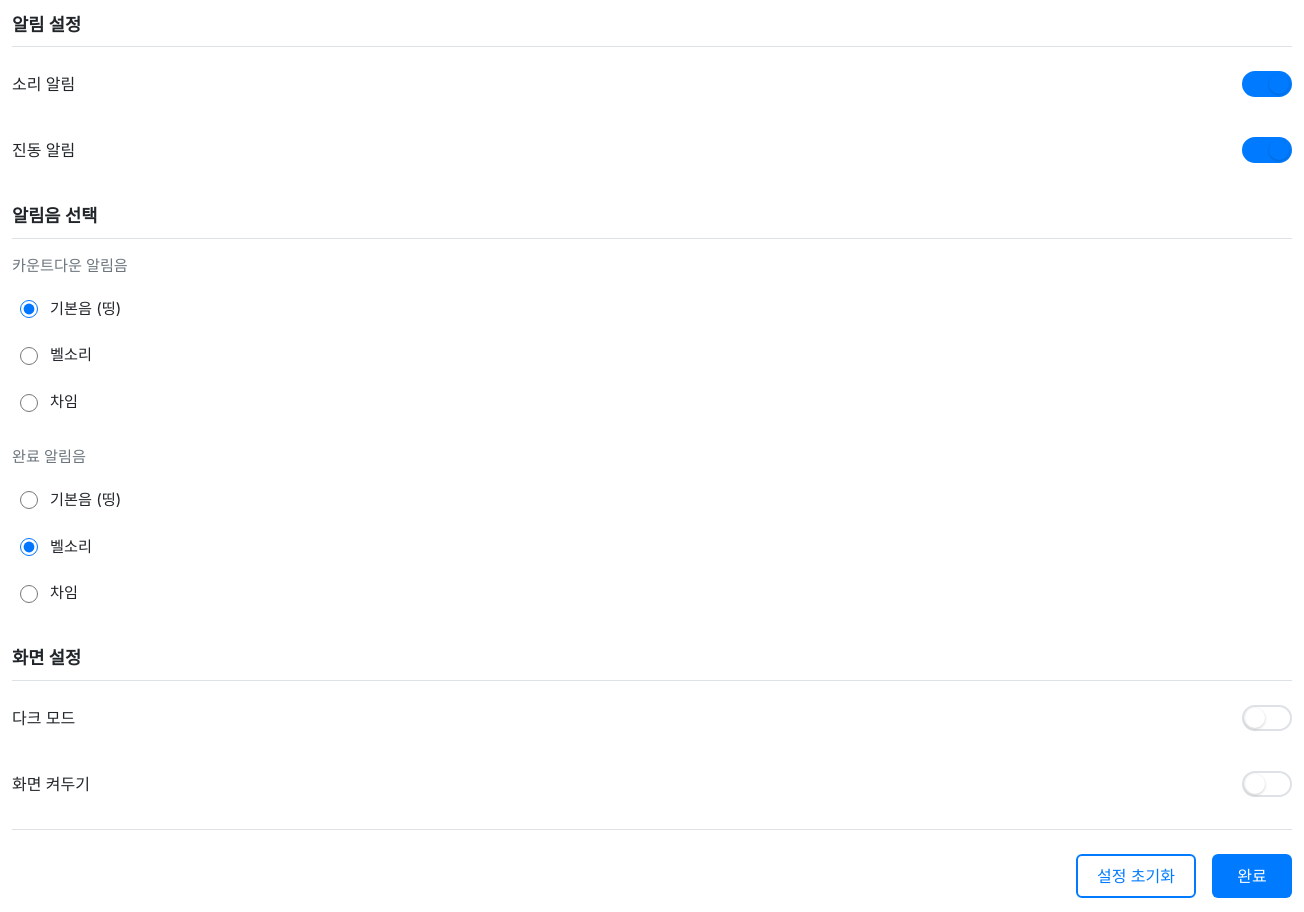
Test: Settings Component › toggles keep screen on setting
Click the switch named "화면 켜두기 켜기" at (1267, 784), box [1242, 770, 1292, 796]
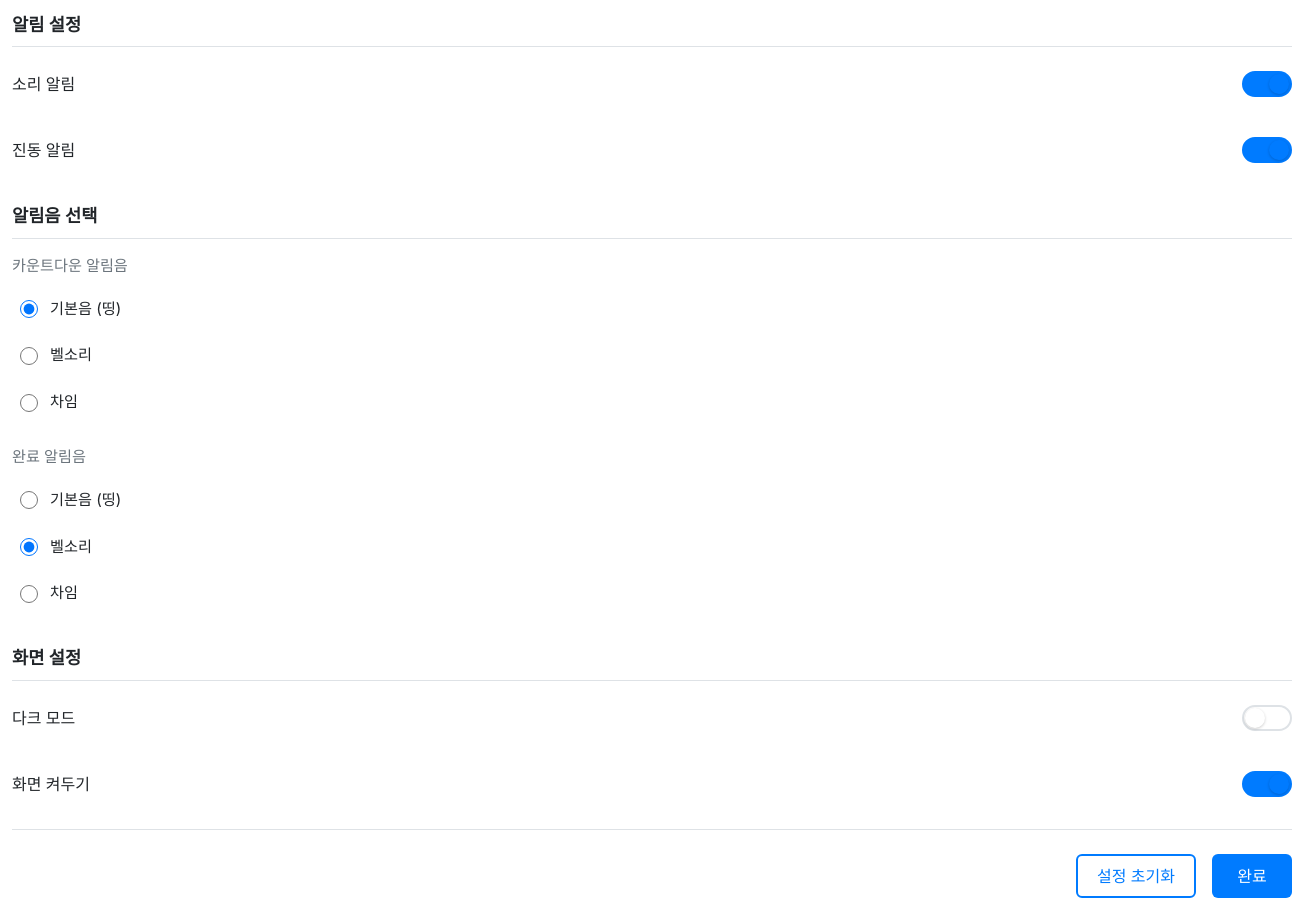
Expected: the switch named "화면 켜두기 끄기" is shown, [1242, 770, 1292, 796]
